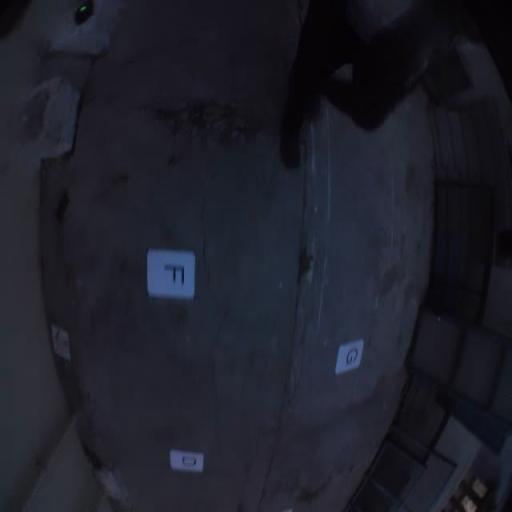D: (170, 450, 204, 473)
F: (147, 248, 195, 298)
G: (335, 340, 365, 374)
